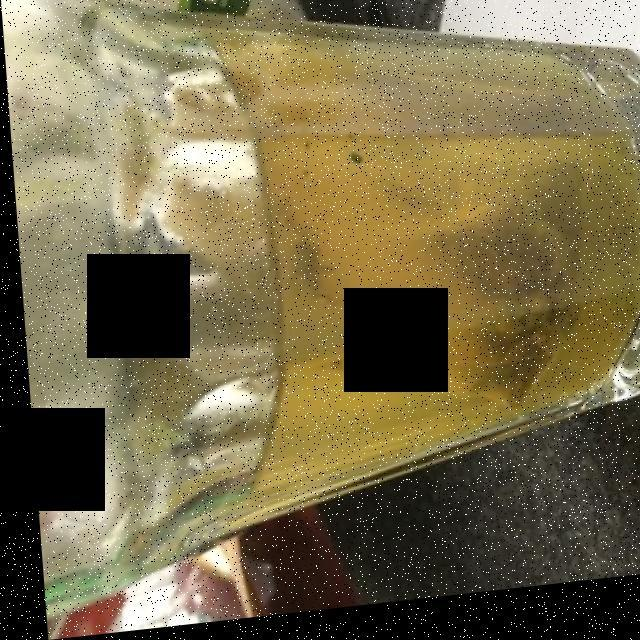tea: (142, 53, 640, 506)
